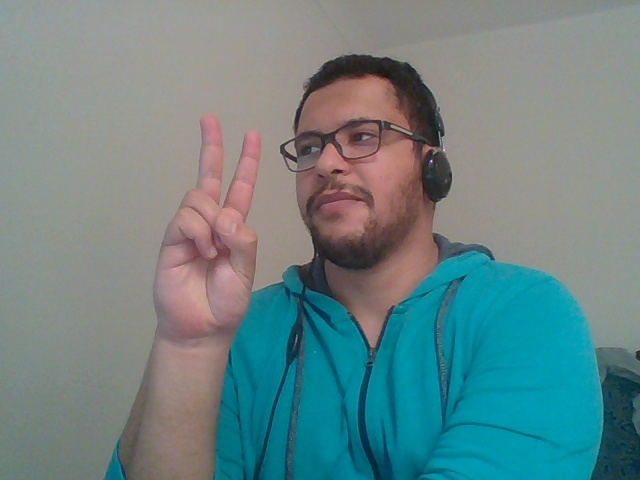vectory: (126, 97, 284, 395)
